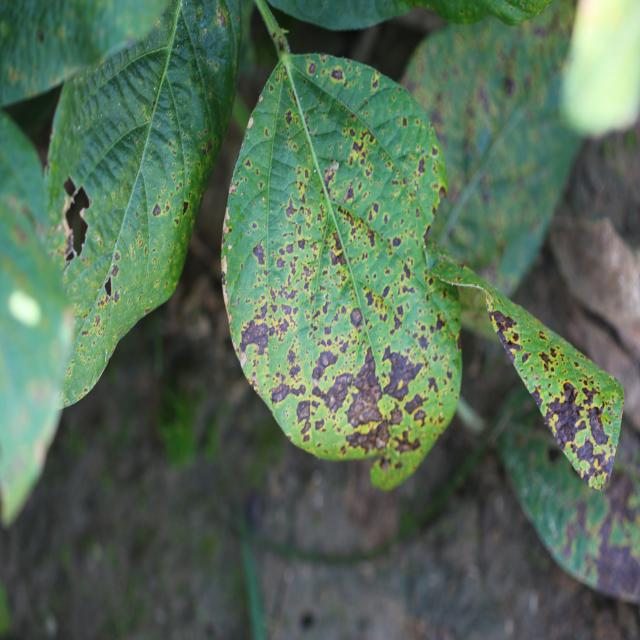Bacterial_Blight: (347, 350, 405, 424), (334, 222, 381, 285), (342, 422, 398, 464), (391, 341, 418, 417), (279, 376, 317, 427), (240, 308, 274, 361), (286, 274, 336, 307), (344, 134, 388, 169), (342, 295, 373, 331), (283, 190, 311, 228), (252, 232, 270, 279), (312, 344, 335, 379), (378, 271, 399, 303), (326, 387, 346, 418), (340, 180, 356, 209)
Soybean: (219, 52, 464, 492)
